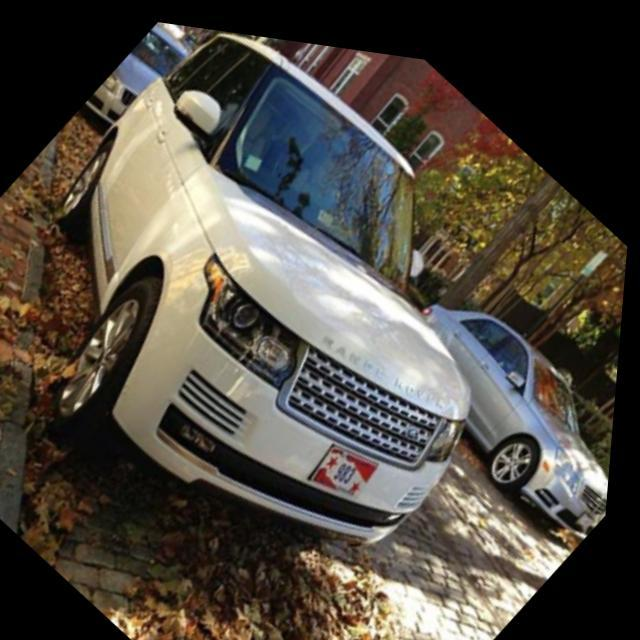license_plate: (319, 418, 387, 494)
